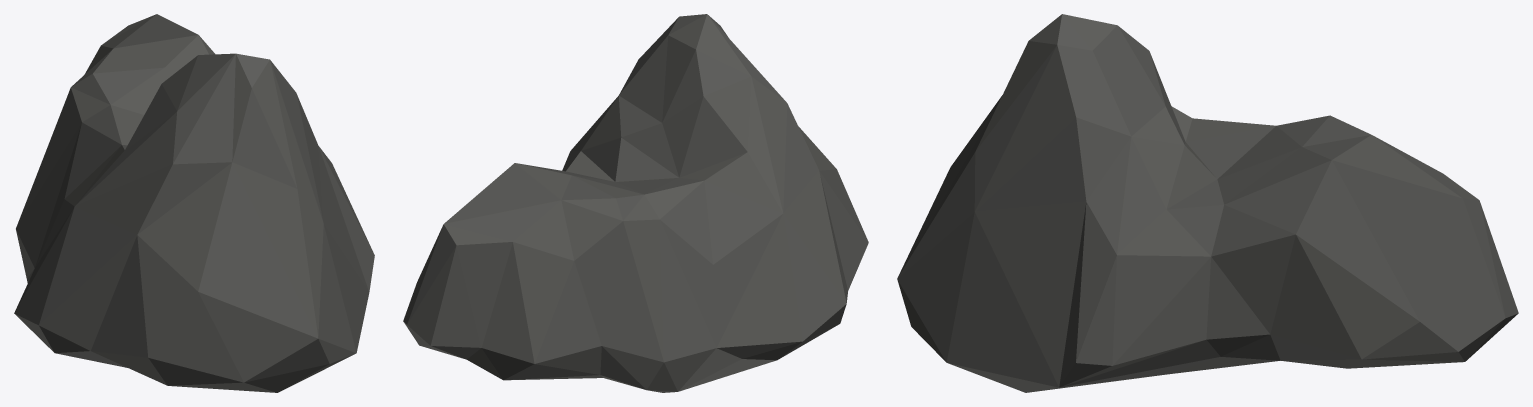
Rendered from SM_Envr_Nature_Rock_16.fbx.
The picture shows the model from 3 angles, left to right: view 1: azimuth 30°, elevation 25°; view 2: azimuth 150°, elevation 25°; view 3: azimuth 270°, elevation 25°; orthographic projection. The views are drawn at different scales.
Visible parts, largest first — view 1: SM_Envr_Nature_Rock_16; view 2: SM_Envr_Nature_Rock_16; view 3: SM_Envr_Nature_Rock_16.
Part boxes in pixels (<box>): SM_Envr_Nature_Rock_16: <box>14,14,374,392</box>; SM_Envr_Nature_Rock_16: <box>403,14,868,392</box>; SM_Envr_Nature_Rock_16: <box>897,14,1518,392</box>.
Bounding box in the file's own units: 313 × 302 × 468.
